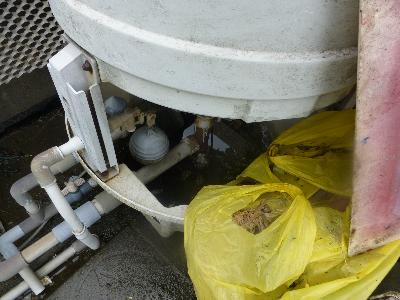plastic_bag: (182, 108, 357, 300)
